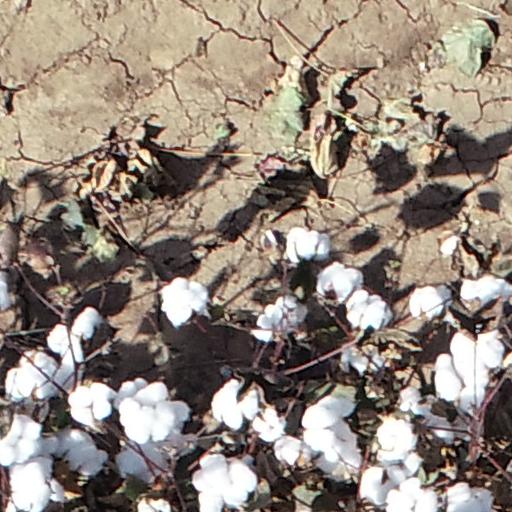Boll: (193, 456, 257, 512), (47, 305, 112, 358), (451, 330, 505, 391), (4, 349, 64, 399), (159, 277, 211, 330), (302, 396, 356, 447), (8, 456, 56, 512), (211, 378, 262, 430), (119, 399, 174, 443), (56, 429, 108, 475), (1, 414, 56, 455), (65, 380, 113, 423), (376, 412, 417, 461), (317, 263, 365, 304), (360, 466, 408, 505), (386, 476, 437, 512), (345, 290, 392, 329), (116, 444, 165, 481), (285, 226, 332, 262), (461, 273, 512, 305), (444, 479, 492, 512), (115, 378, 168, 406), (409, 285, 453, 317), (344, 346, 387, 376), (436, 355, 463, 401), (251, 408, 286, 442), (251, 306, 282, 342), (396, 386, 430, 418), (323, 448, 365, 472), (276, 294, 307, 325), (427, 411, 457, 443), (391, 448, 422, 477), (135, 495, 173, 512), (275, 435, 298, 463)
